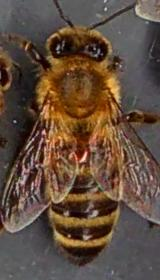varroa_mite: (64, 135, 91, 168)
